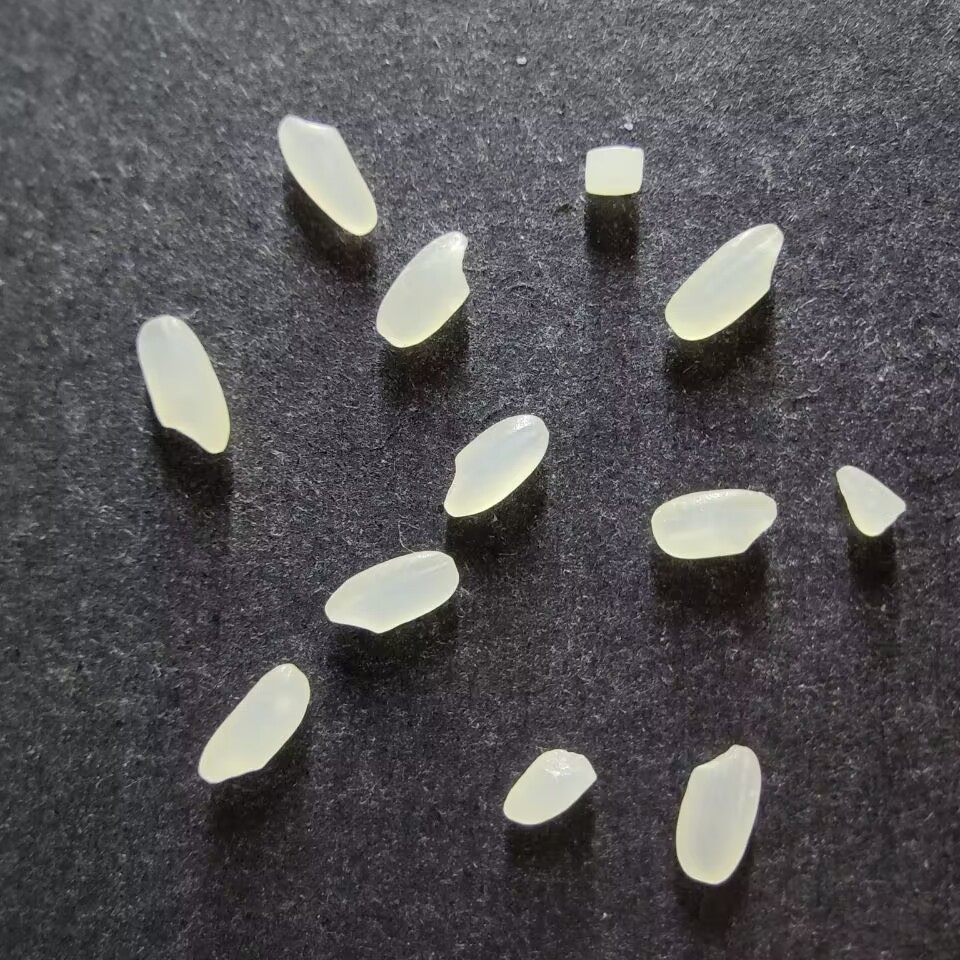broken: (502, 748, 597, 826), (835, 464, 906, 536), (583, 145, 643, 196)
rice: (664, 222, 784, 341), (197, 662, 309, 784), (137, 315, 230, 453), (276, 114, 377, 236), (674, 744, 761, 884), (323, 549, 459, 633), (442, 413, 549, 517), (375, 231, 470, 347), (650, 488, 777, 559)
